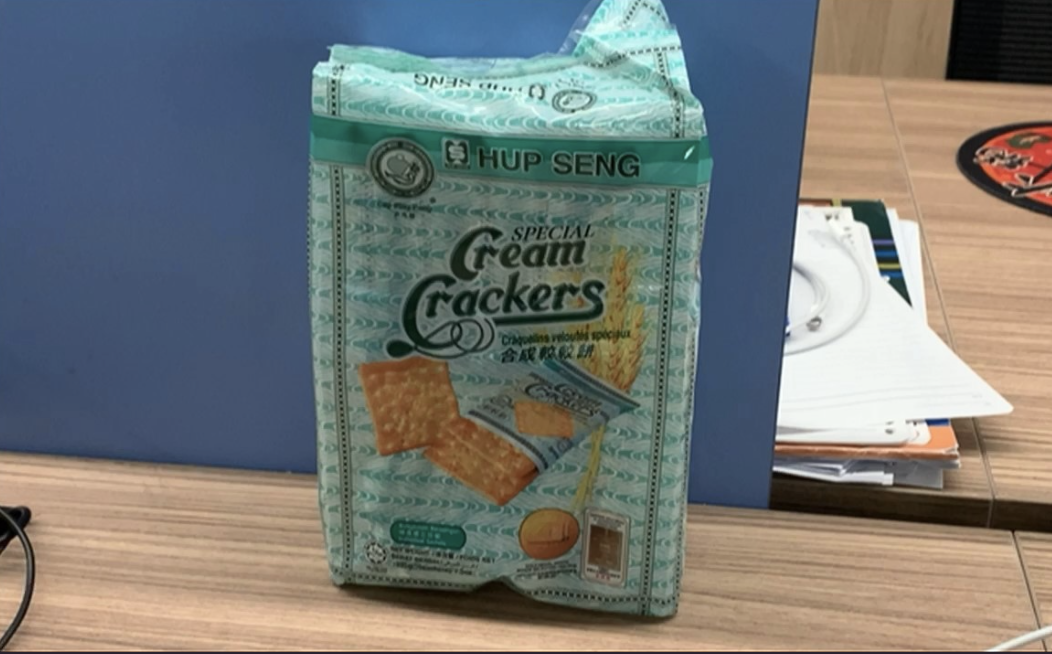crackers_150g: (355, 135, 664, 592)
